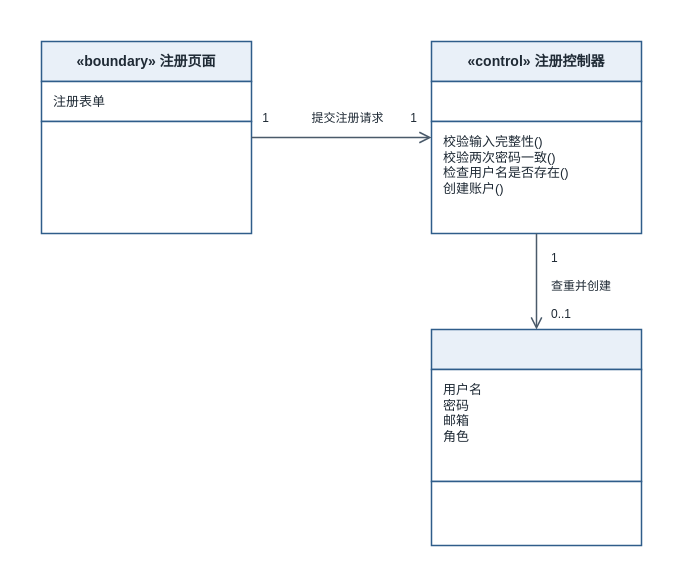
This 682x586 diagram has some shape labels left out. Here are the shapes that lost their labels. From the top down, the centre of each, then its label:
pixel 146 177: 显示注册表单() 读取用户输入() 提示错误信息() 跳转登录页面()
pixel 536 349: «entity» 用户
pixel 536 513: 校验用户名唯一() 保存账户()
